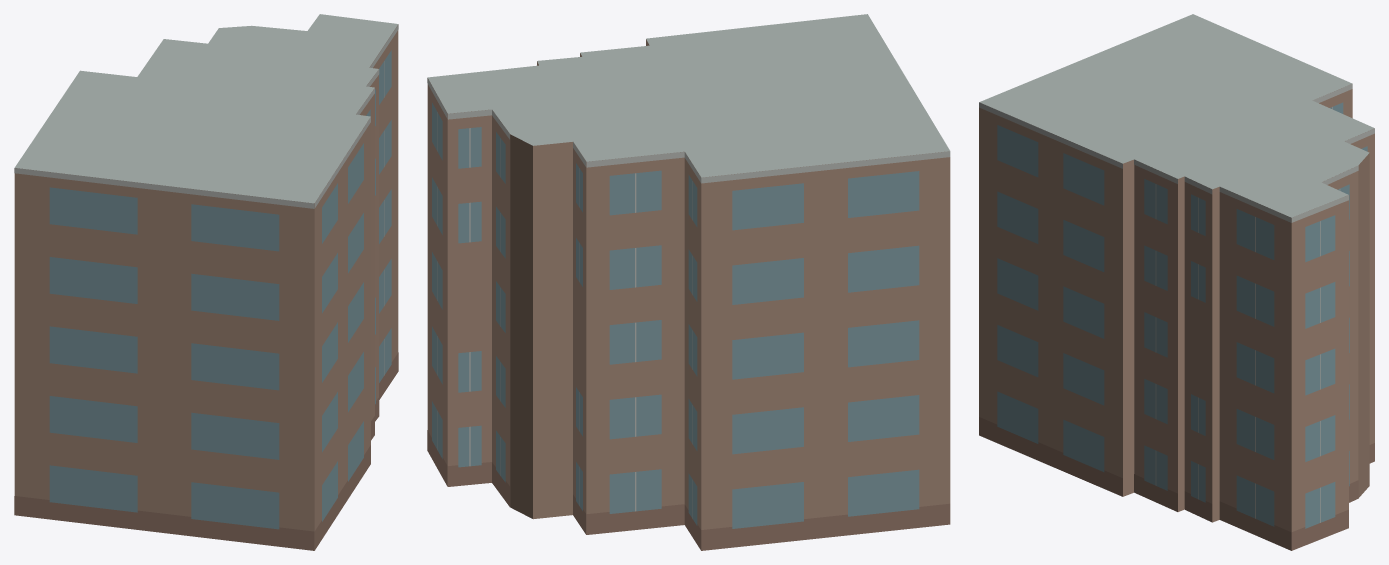
File: survey-upis-32769930.glb
3 renders of one model, left to right at view 1: azimuth 30°, elevation 25°; view 2: azimuth 150°, elevation 25°; view 3: azimuth 270°, elevation 25°, orthographic. The views are drawn at different scales.
Parts seen in each view (by area): view 1: survey-upis-32769930.tmp; view 2: survey-upis-32769930.tmp; view 3: survey-upis-32769930.tmp.
Boxes of the visible parts, x1,y1,x2,y2 form: survey-upis-32769930.tmp: (14, 14, 398, 550); survey-upis-32769930.tmp: (427, 14, 950, 550); survey-upis-32769930.tmp: (979, 14, 1374, 550).
Bounding box in the file's own units: 20.2 × 15.4 × 16.58.
